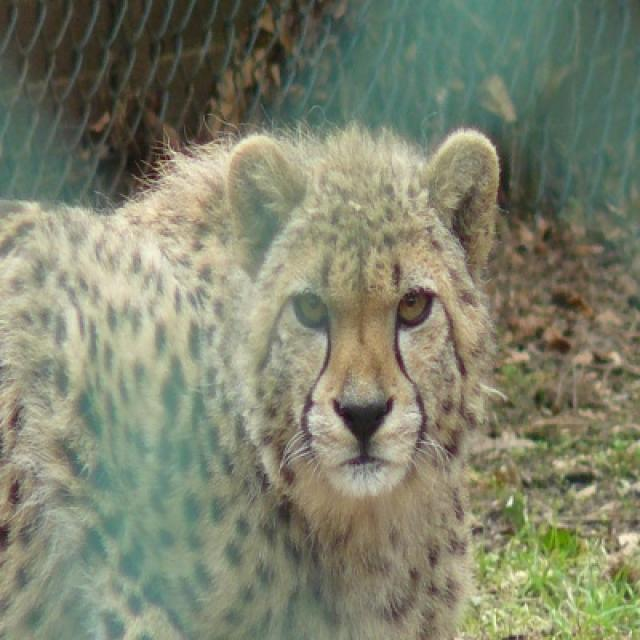Cheetah: (6, 127, 499, 638)
